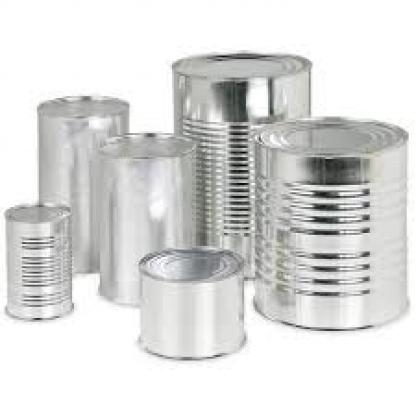METAL: (251, 116, 407, 331), (172, 52, 309, 277), (92, 133, 192, 311), (35, 96, 128, 276), (137, 248, 244, 357), (6, 201, 72, 320)
